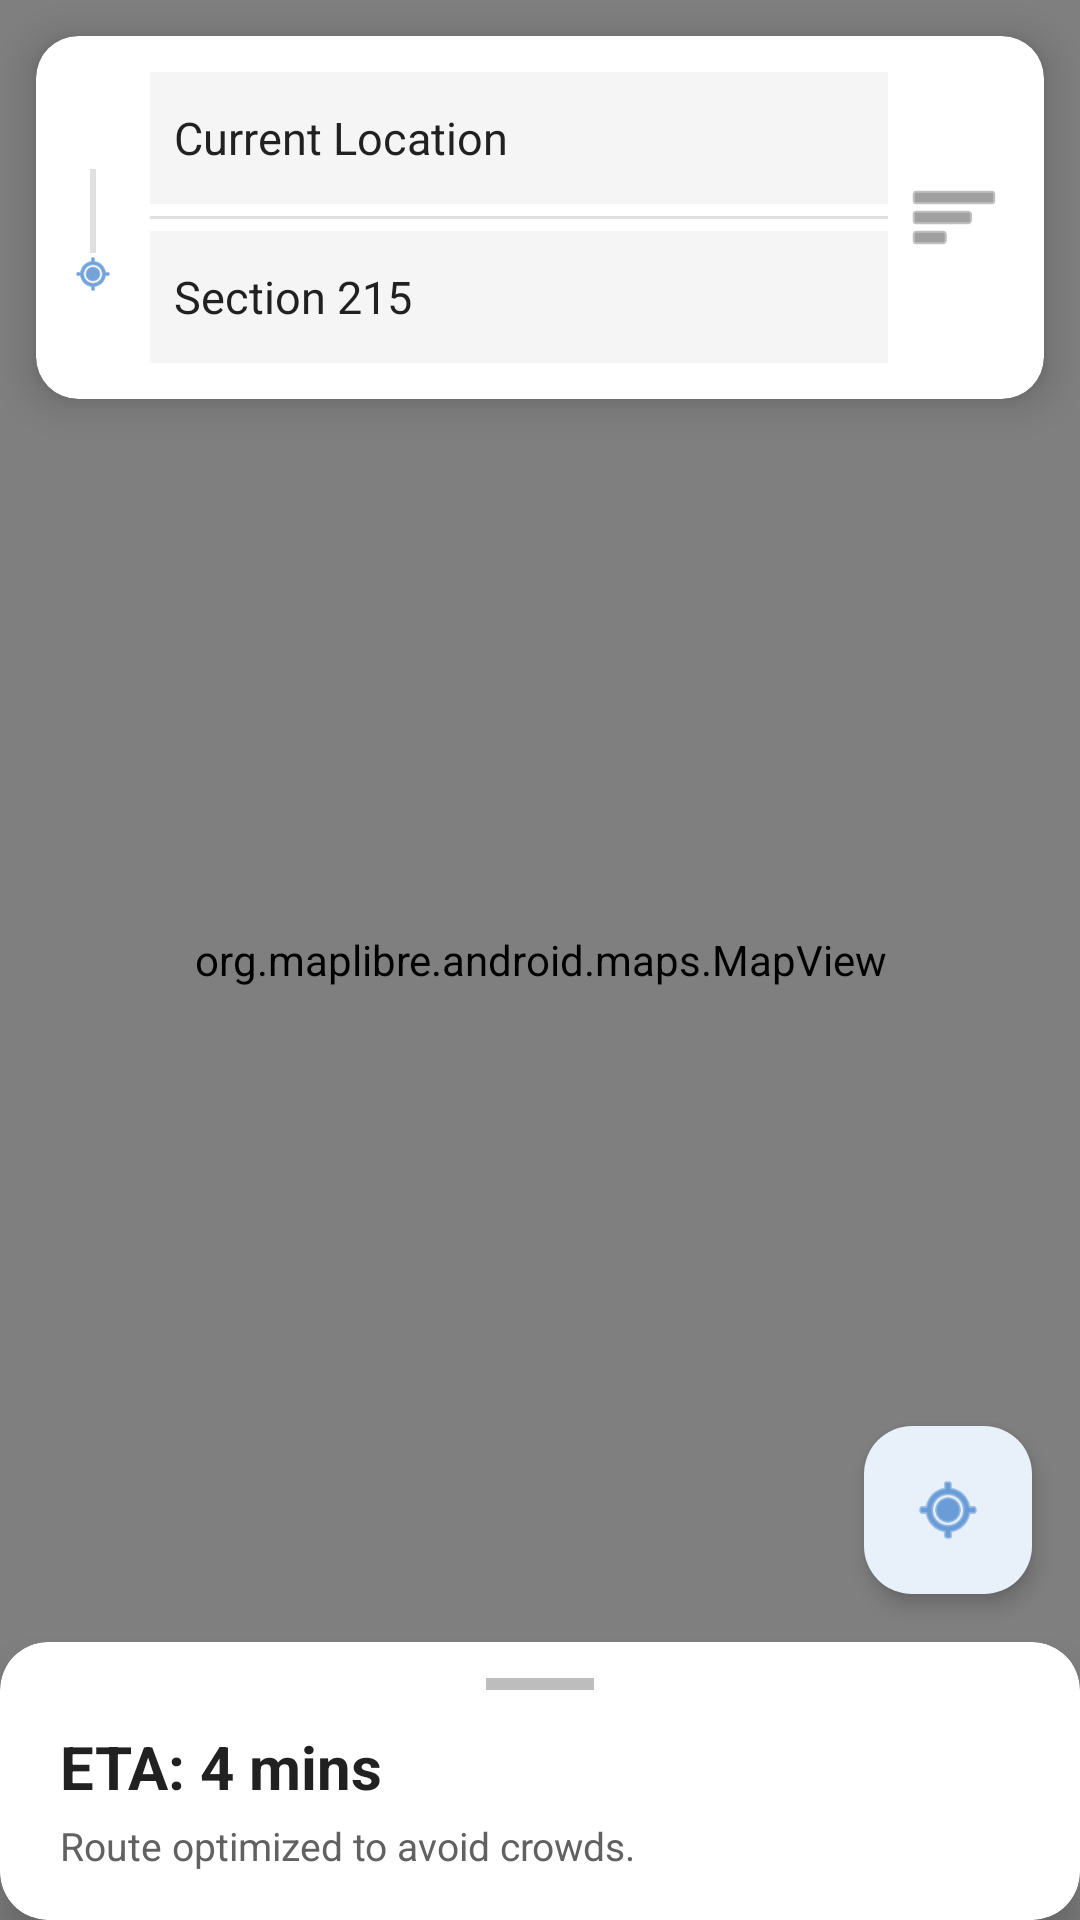

Icon click points for this 1080×1920 phone screenshot, format [x,y]:
Destination: [93,274]
My Location: [948,1510]
